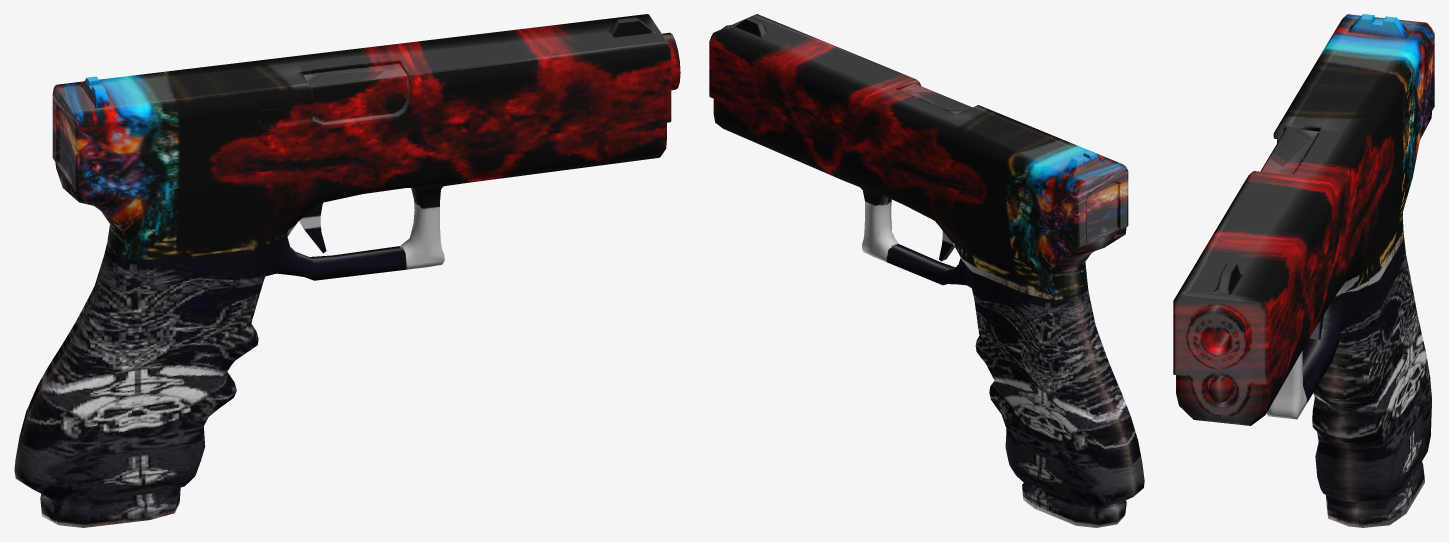
The model's file is Pistol.fbx.
3 renders of one model, left to right at view 1: azimuth 30°, elevation 25°; view 2: azimuth 150°, elevation 25°; view 3: azimuth 270°, elevation 25°, orthographic. The views are drawn at different scales.
Visible parts, largest first — view 1: node_id4; view 2: node_id4; view 3: node_id4.
Boxes of the visible parts, x1,y1,x2,y2 form: node_id4: [14, 14, 680, 527]; node_id4: [709, 14, 1144, 527]; node_id4: [1173, 14, 1434, 527].
Bounding box in the file's own units: 0.5013 × 0.352 × 0.1773.
Materials: 1 (1 with a texture image).
